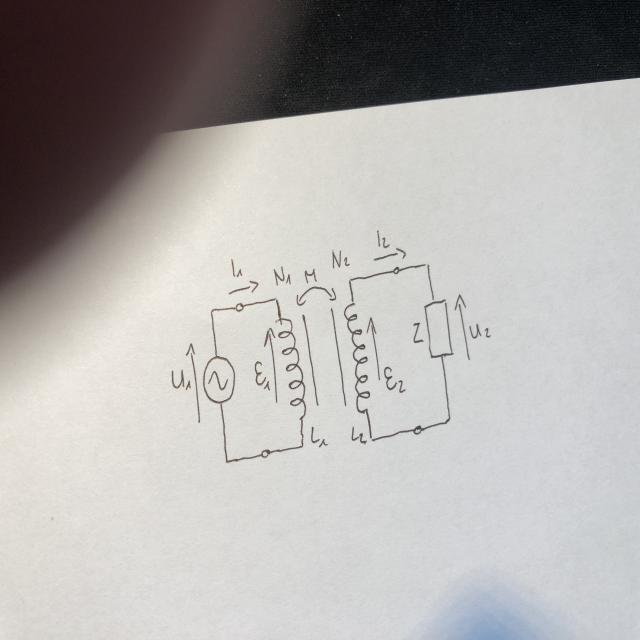junction: (272, 295, 280, 305), (445, 413, 453, 423), (223, 457, 231, 466), (368, 434, 376, 443), (346, 276, 354, 285), (299, 440, 306, 450), (423, 261, 430, 271), (209, 308, 216, 317)
resistor: (423, 298, 454, 360)
source: (202, 354, 237, 406)
text: (383, 366, 406, 394), (169, 368, 192, 392), (254, 361, 271, 392), (309, 424, 329, 449), (467, 320, 492, 340), (272, 264, 292, 286), (331, 248, 351, 269), (350, 424, 368, 445), (230, 257, 244, 278), (376, 230, 390, 250), (412, 322, 424, 344), (304, 268, 318, 284)
transformer: (274, 301, 372, 418)
